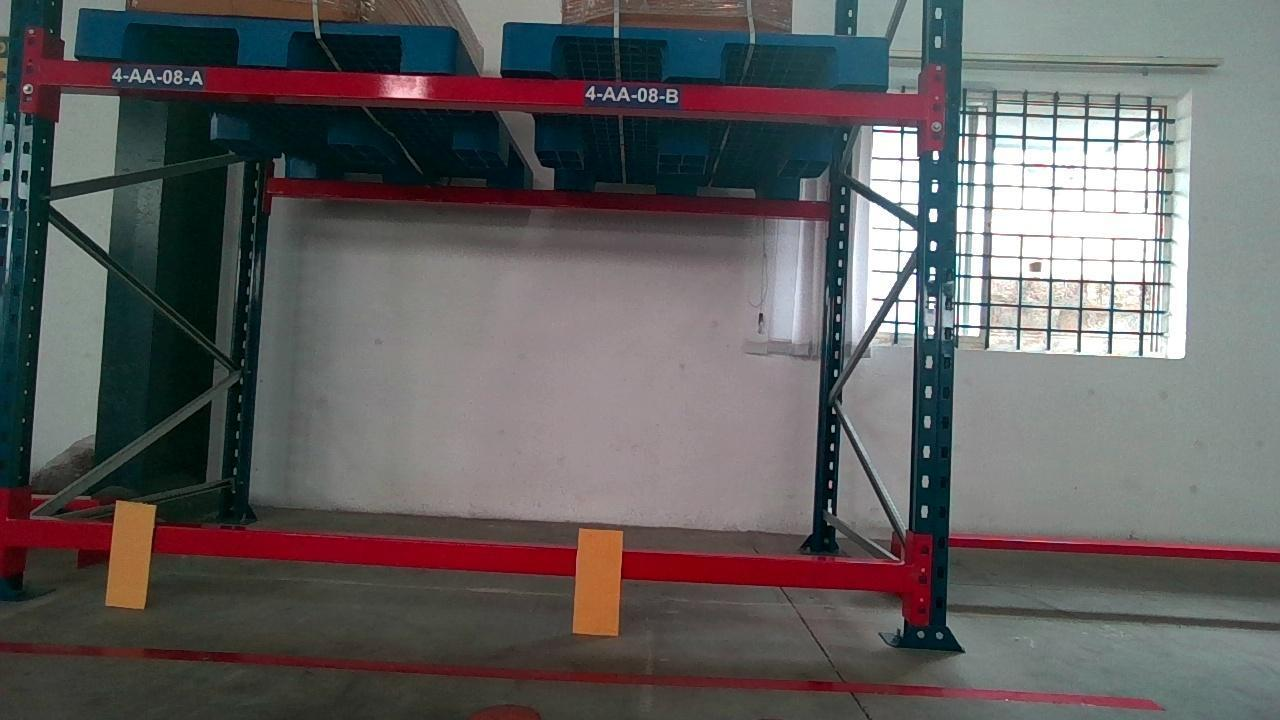h_rack: (3, 523, 911, 593), (36, 60, 932, 125)
orange_strip: (573, 527, 622, 633), (105, 501, 153, 606)
red_line: (0, 636, 1175, 711)
small_pallet: (495, 21, 902, 84), (72, 16, 454, 66)
